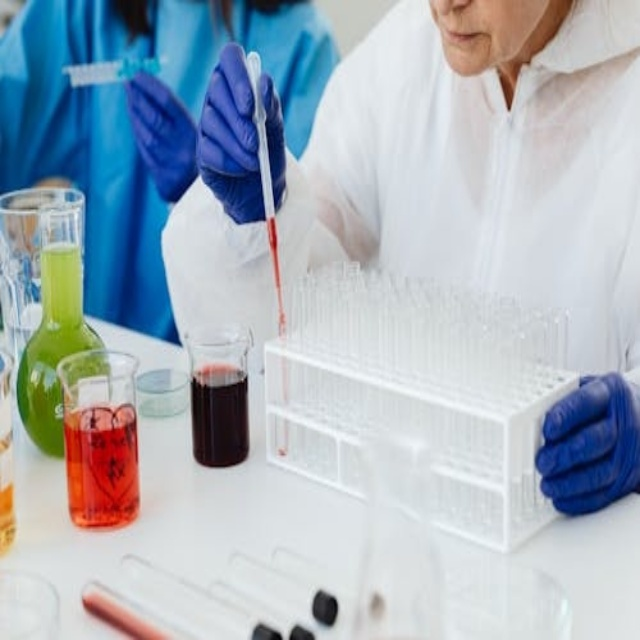Guantes: (198, 42, 287, 228), (537, 369, 640, 518), (123, 69, 199, 204)
Sin_mascara: (439, 19, 490, 77)
